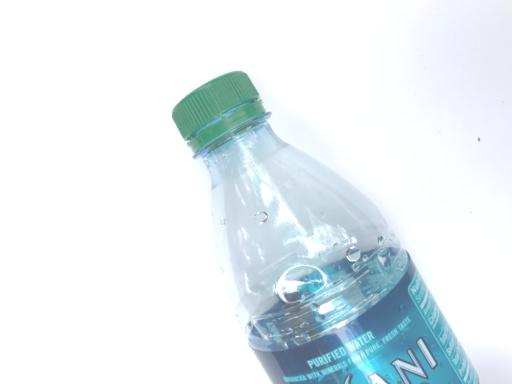bottle: (160, 58, 490, 384)
